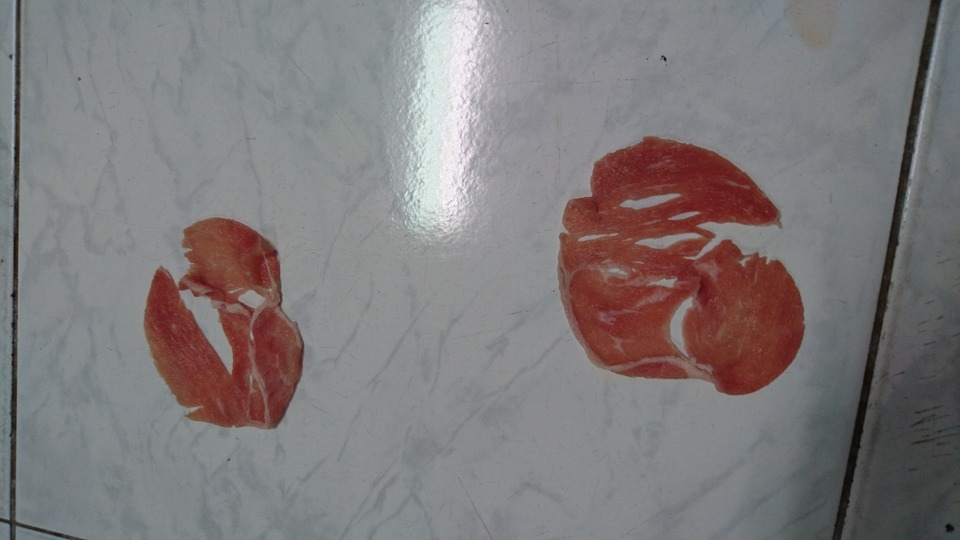restructured meat: (552, 132, 809, 400), (142, 213, 307, 439)
